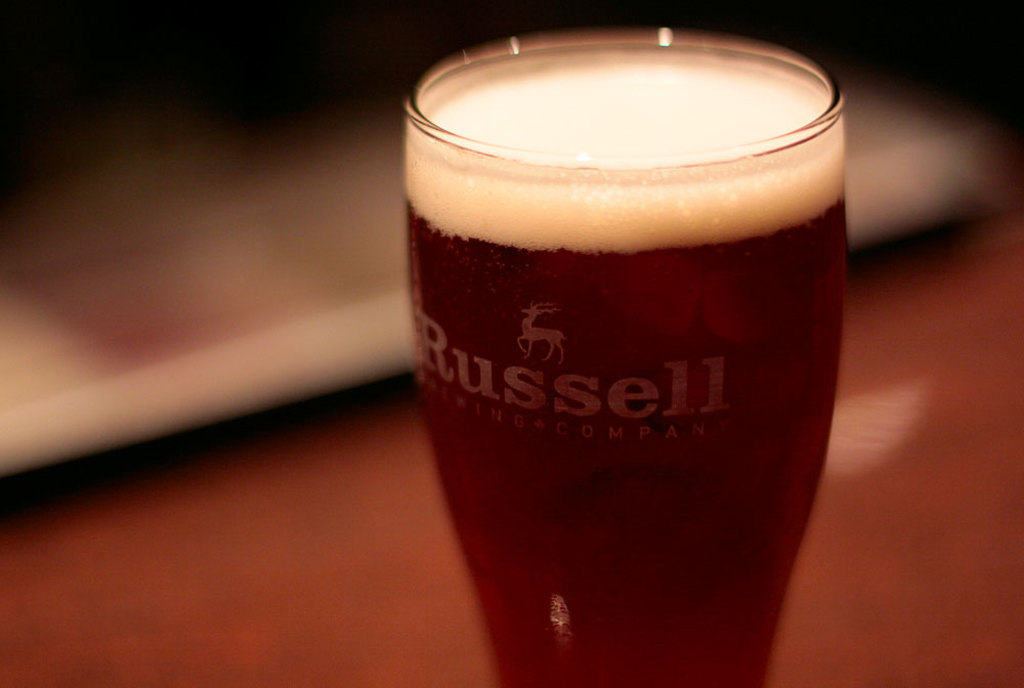Beer: (398, 18, 857, 685)
